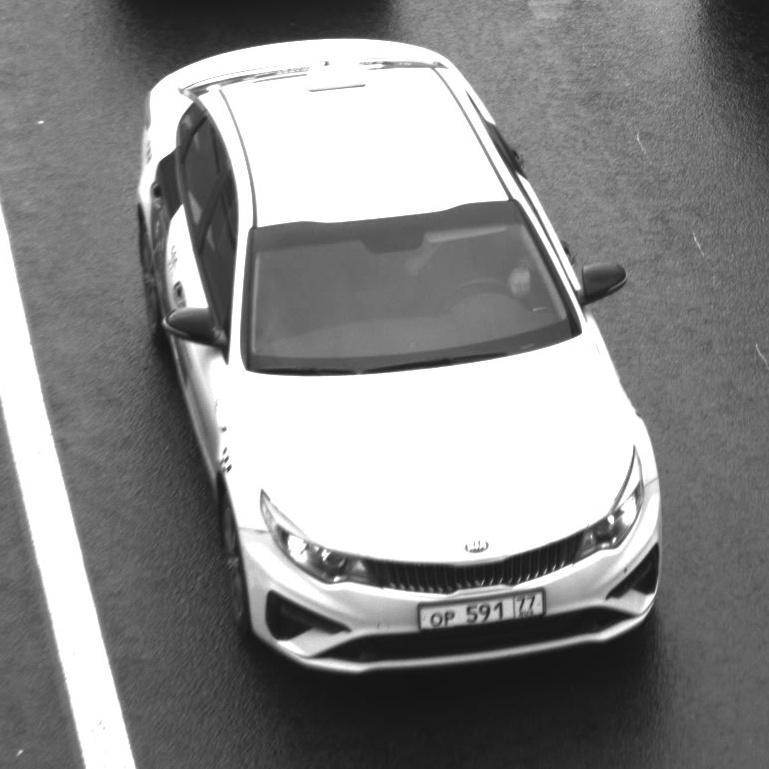plate: (409, 582, 555, 638)
